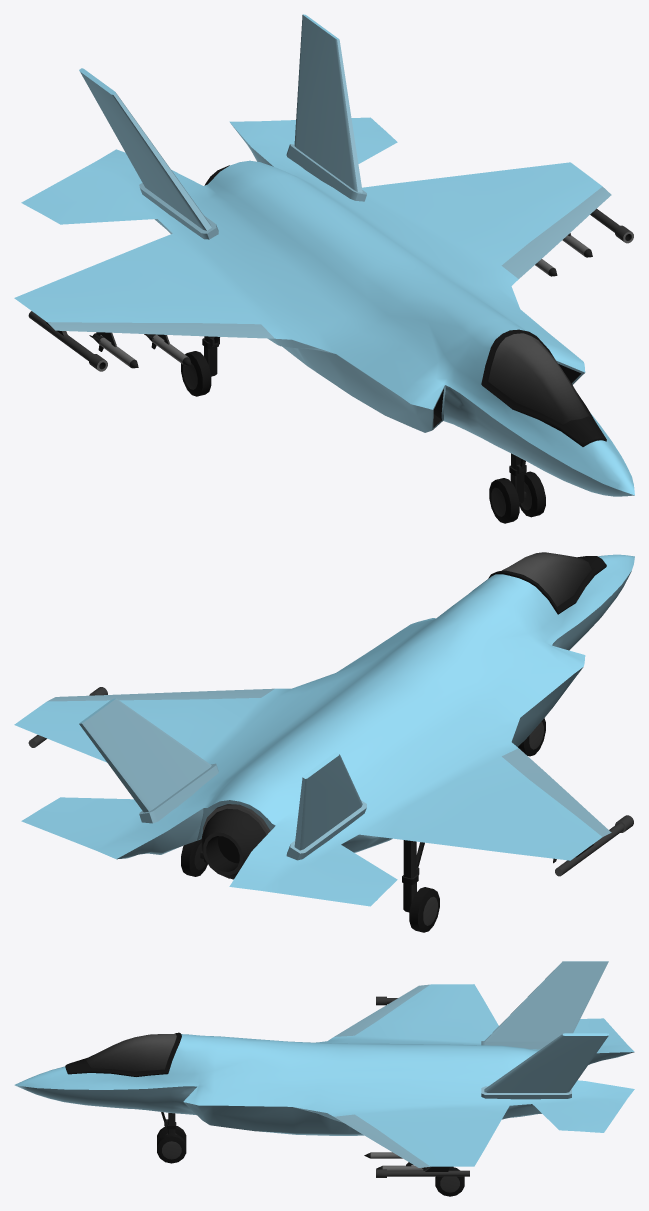
Rendered from ZhanDouJi00.fbx.
3 renders of one model, top to bottom at view 1: azimuth 30°, elevation 25°; view 2: azimuth 150°, elevation 25°; view 3: azimuth 270°, elevation 25°, orthographic. The views are drawn at different scales.
Visible parts, largest first — view 1: ZhanDouJi00; view 2: ZhanDouJi00; view 3: ZhanDouJi00.
Boxes of the visible parts, x1=… form: ZhanDouJi00: x1=14, y1=14, x2=634, y2=523; ZhanDouJi00: x1=14, y1=552, x2=634, y2=932; ZhanDouJi00: x1=14, y1=961, x2=634, y2=1196.
Size of the model in its own units: 1042 by 427 by 1499.
